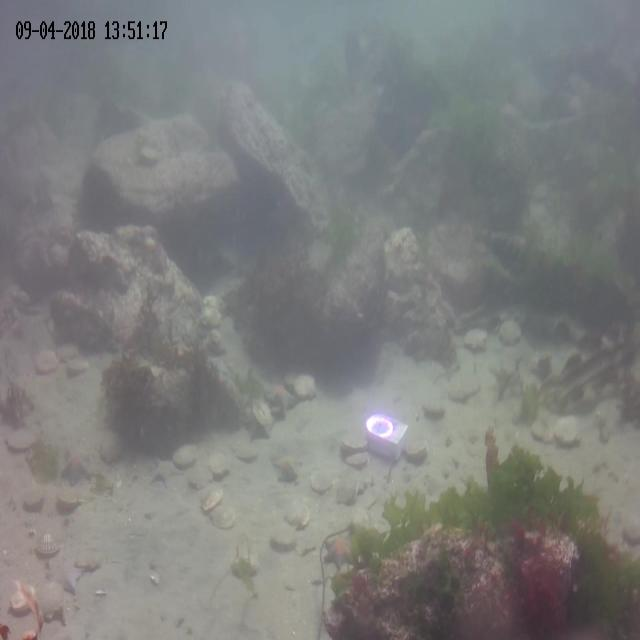scallop: (36, 586, 64, 622), (554, 418, 582, 450), (461, 326, 490, 353), (499, 317, 524, 348), (252, 402, 280, 429), (98, 434, 122, 465), (34, 532, 61, 559), (401, 436, 429, 462), (5, 431, 36, 453), (210, 506, 236, 531), (172, 443, 198, 468), (336, 474, 359, 502), (201, 486, 224, 514), (291, 377, 317, 401), (186, 464, 212, 488), (455, 375, 481, 399), (207, 453, 231, 478), (35, 351, 59, 376), (271, 532, 295, 556), (139, 142, 163, 166), (284, 506, 310, 528), (310, 469, 331, 496), (341, 435, 367, 456), (422, 396, 446, 418), (56, 490, 82, 510), (22, 491, 45, 513), (235, 444, 258, 464), (200, 304, 220, 326), (66, 359, 90, 377), (344, 452, 370, 468), (58, 345, 80, 363), (532, 419, 548, 442), (204, 293, 224, 311), (448, 387, 467, 405)
starfish: (60, 442, 94, 490), (322, 528, 354, 570), (265, 382, 296, 424), (49, 562, 82, 597), (273, 452, 303, 487), (247, 409, 273, 447), (150, 455, 177, 487)
